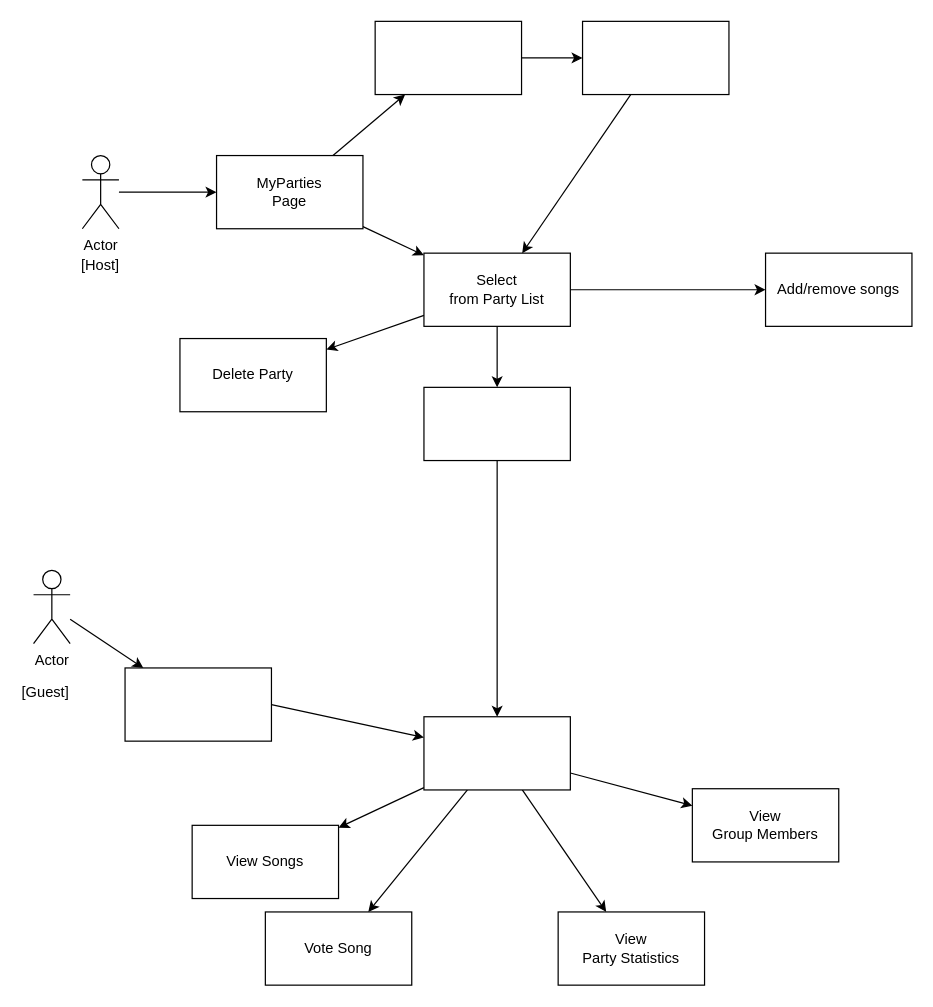
The diagram is 933 pixels wide and 1007 high, and some of its shapes have lost their labels. Here are the shapes that lost their labels. From the top down, the box of each, then its label:
(374, 20, 522, 95): Create Party
(581, 20, 729, 95): Configure Party (name&location)
(423, 386, 570, 461): Start Party
(124, 667, 271, 741): Enter party code
(423, 716, 570, 790): Party Main Page
